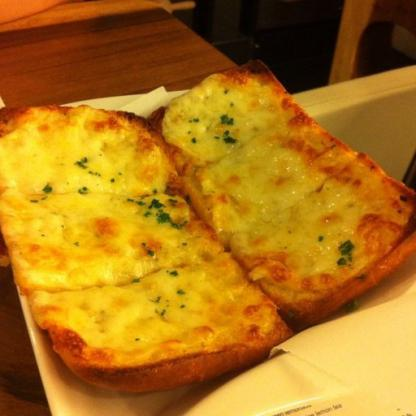toast bread: (0, 102, 285, 374), (163, 58, 415, 326)
